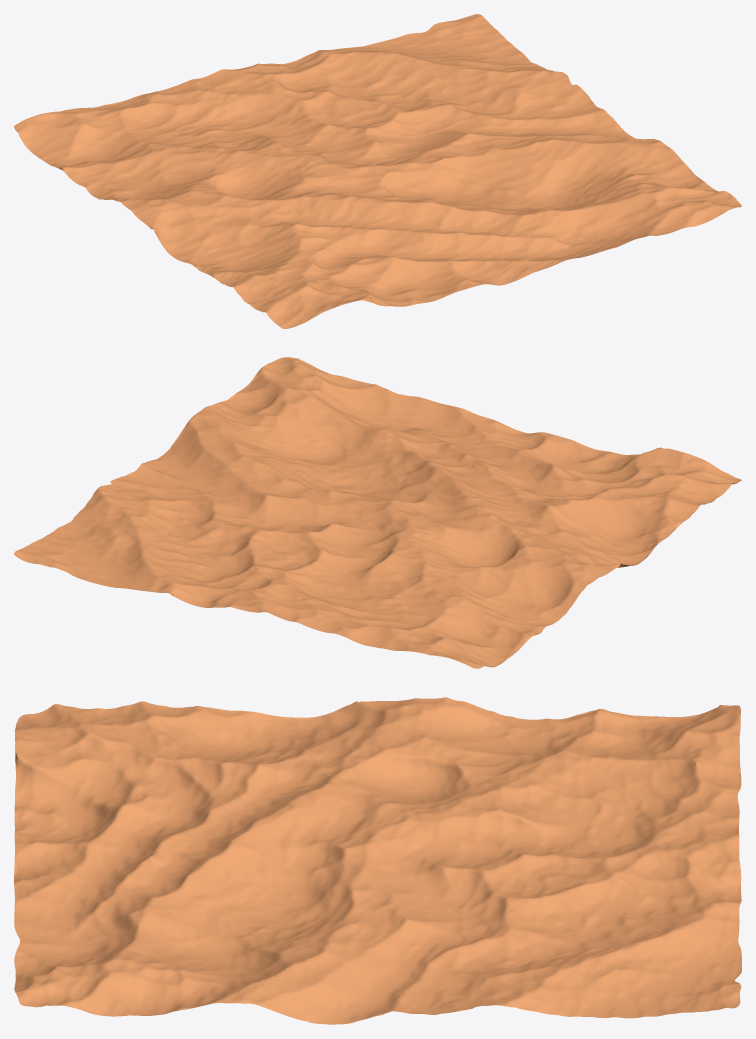
The model's file is dune_-_arrakis_wip.glb.
The picture shows the model from 3 angles, top to bottom: view 1: azimuth 30°, elevation 25°; view 2: azimuth 150°, elevation 25°; view 3: azimuth 270°, elevation 25°; orthographic projection. The views are drawn at different scales.
Visible parts, largest first — view 1: Object_2, Object_3; view 2: Object_2, Object_3; view 3: Object_2, Object_3.
Boxes of the visible parts, left/top/right/bottom form: Object_2: left=14, top=15, right=734, bottom=328; Object_3: left=86, top=14, right=741, bottom=268; Object_2: left=15, top=364, right=741, bottom=668; Object_3: left=14, top=357, right=585, bottom=641; Object_2: left=14, top=697, right=741, bottom=1024; Object_3: left=14, top=698, right=741, bottom=1024.
Bounding box in the file's own units: 203 × 10.47 × 203.
Materials: 1 (1 with a texture image).
